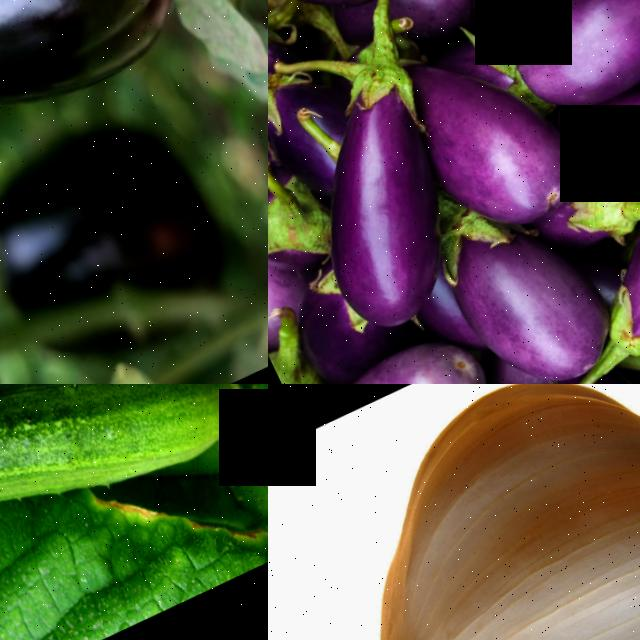cucumber: (0, 384, 253, 589)
eggplant: (268, 65, 492, 348), (0, 0, 216, 162), (425, 209, 611, 384), (487, 0, 640, 135), (557, 144, 640, 361), (548, 58, 640, 206), (280, 329, 507, 384)
garlic: (268, 384, 640, 640)
